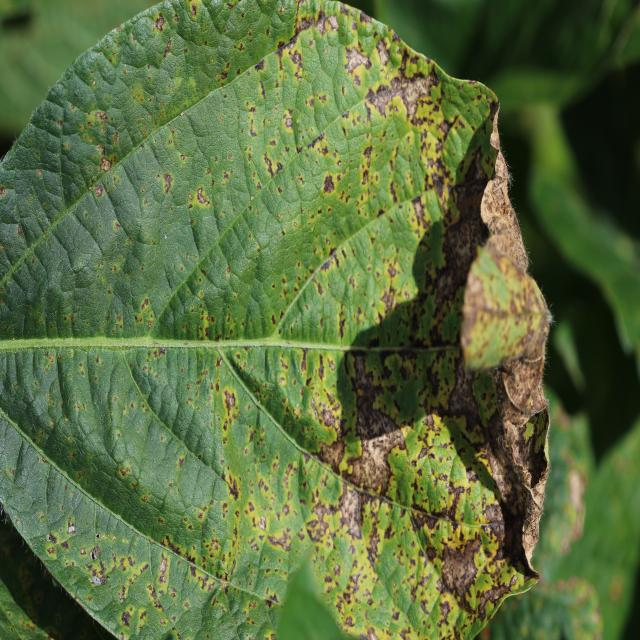Bacterial_Blight: (2, 400, 172, 572), (297, 65, 396, 224), (327, 434, 418, 531), (143, 110, 210, 228), (0, 202, 71, 313), (329, 9, 424, 84), (488, 68, 594, 122), (101, 180, 147, 256), (481, 173, 513, 228), (272, 29, 304, 58), (132, 297, 155, 331), (444, 177, 495, 192), (2, 8, 32, 30), (263, 152, 282, 179), (86, 110, 106, 135), (307, 132, 325, 151), (0, 500, 12, 525), (153, 12, 167, 31), (489, 98, 500, 120), (98, 157, 112, 173), (490, 130, 500, 150), (225, 393, 236, 409), (163, 39, 172, 58), (94, 184, 104, 198), (46, 534, 53, 543), (68, 525, 75, 533), (37, 169, 43, 178), (22, 539, 24, 546)
Soybean: (0, 0, 550, 640)
